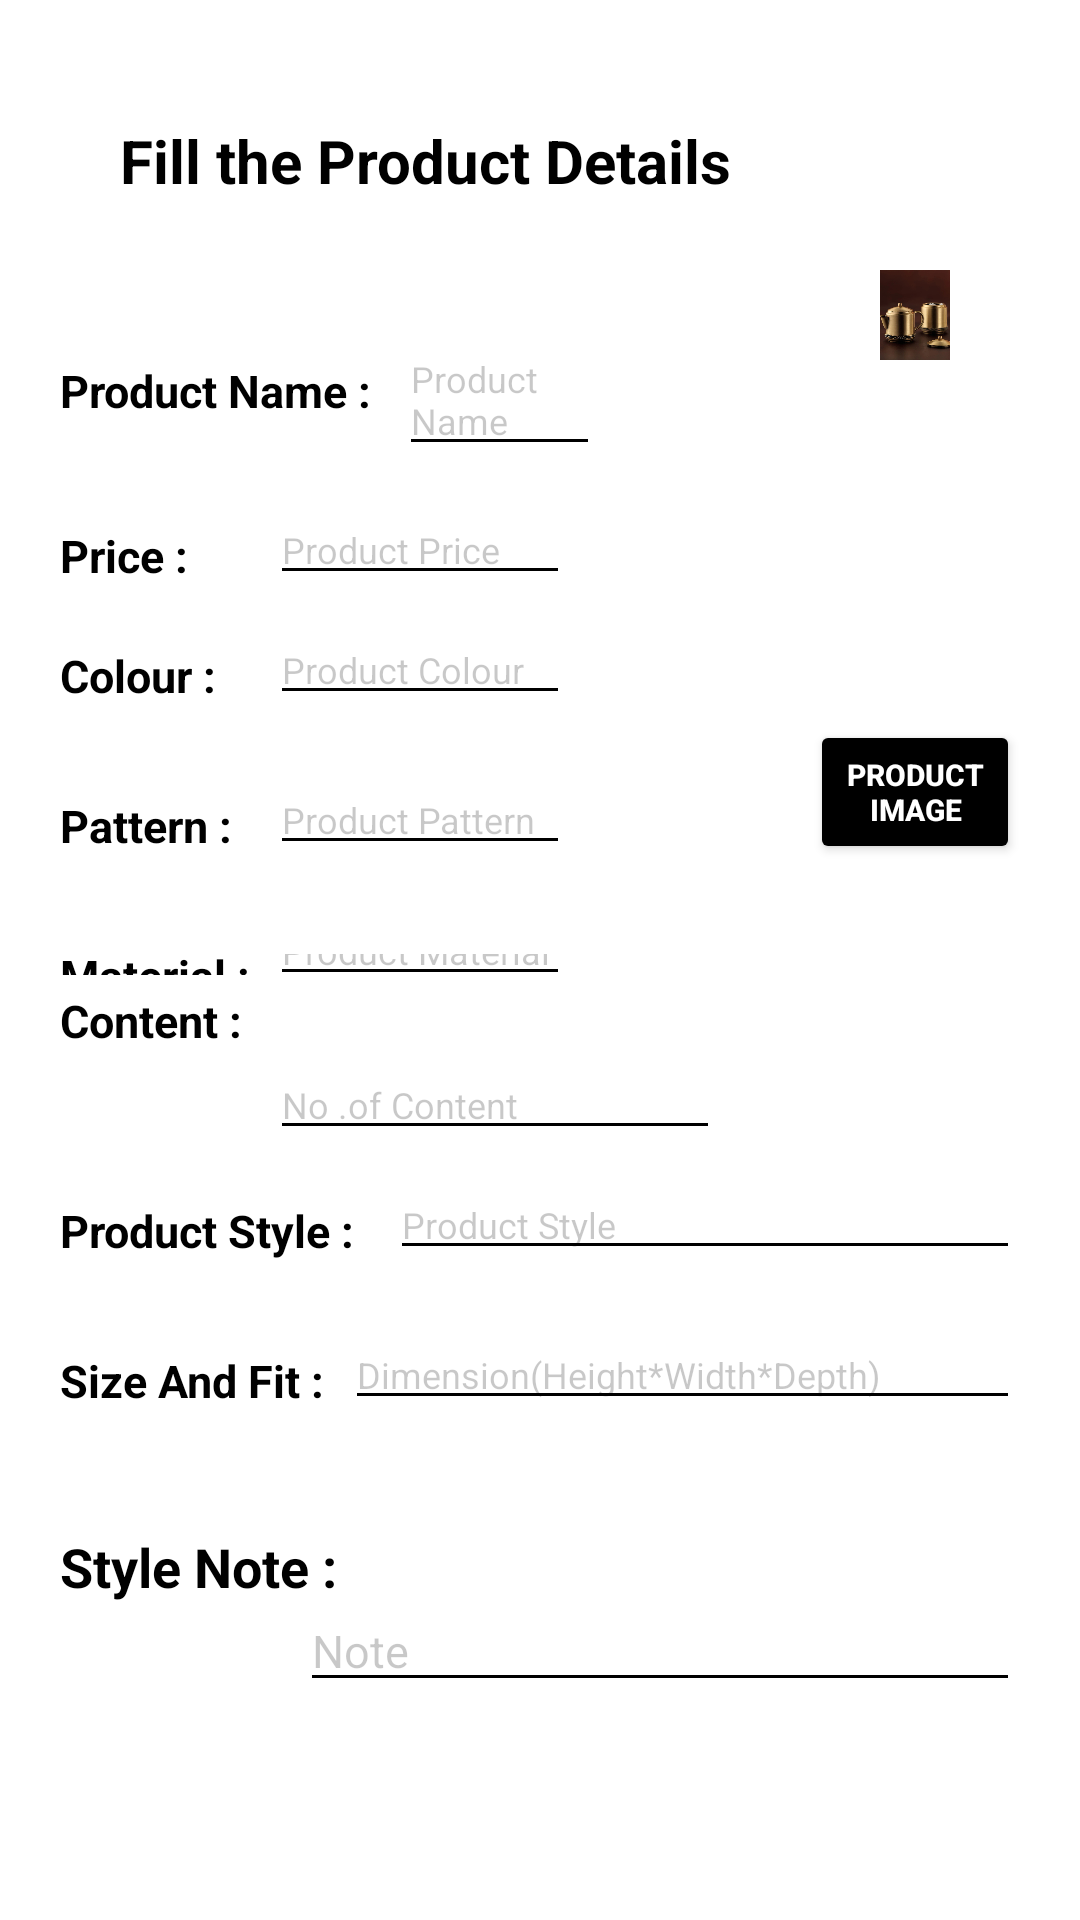

Where to tap for icons on this 1080px×1920px app screen, as [x,y]:
kettel: [915,315]
